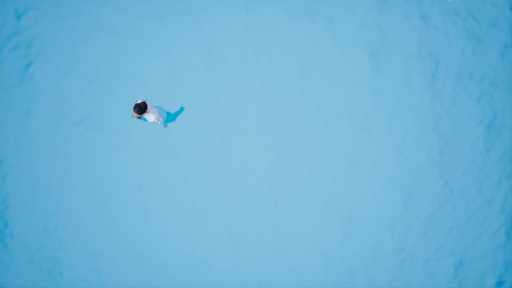person: (125, 97, 191, 129)
